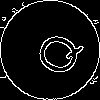Q: (25, 25, 86, 81)
